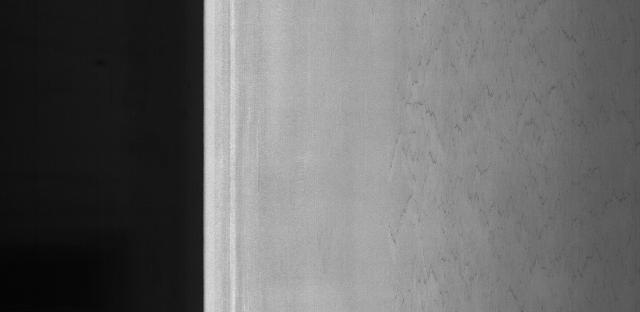silk_spot: (389, 5, 618, 290)
